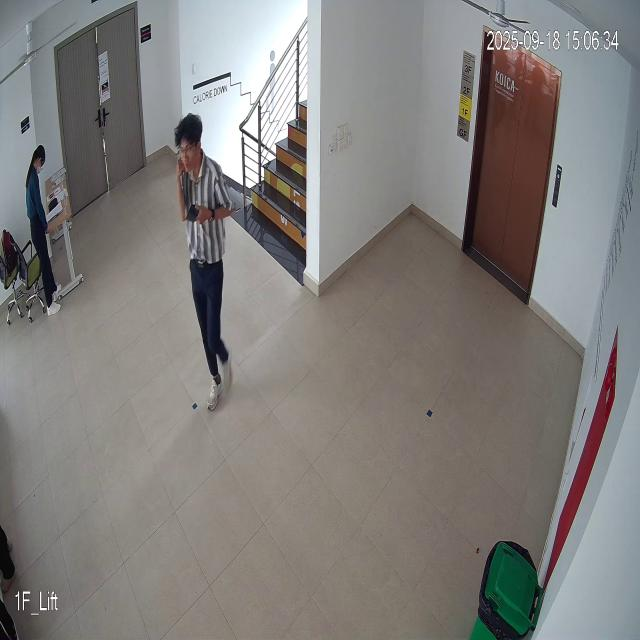face: (170, 111, 208, 184)
